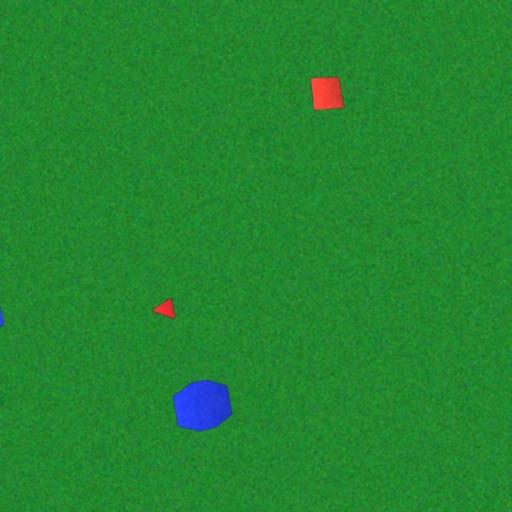RED_SQUARE: (310, 76, 344, 111)
